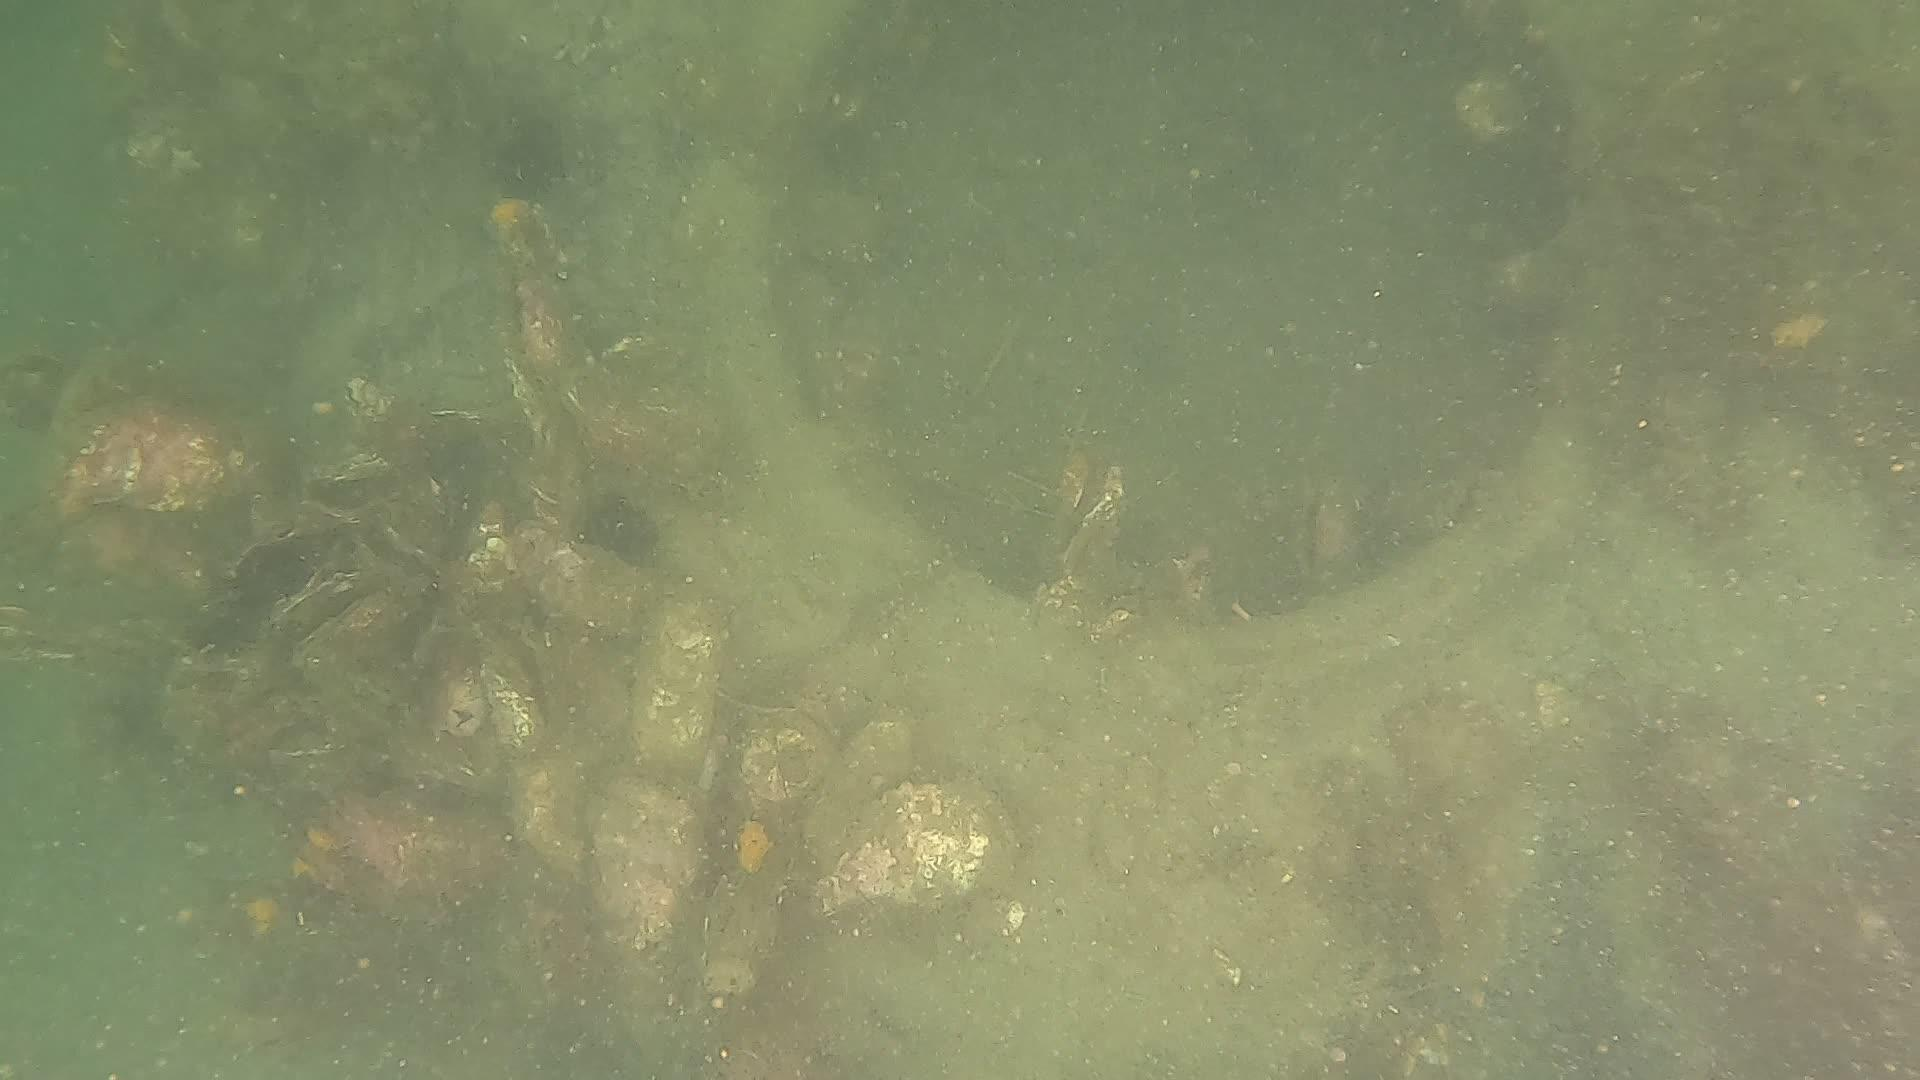tire: (344, 0, 1920, 1080)
